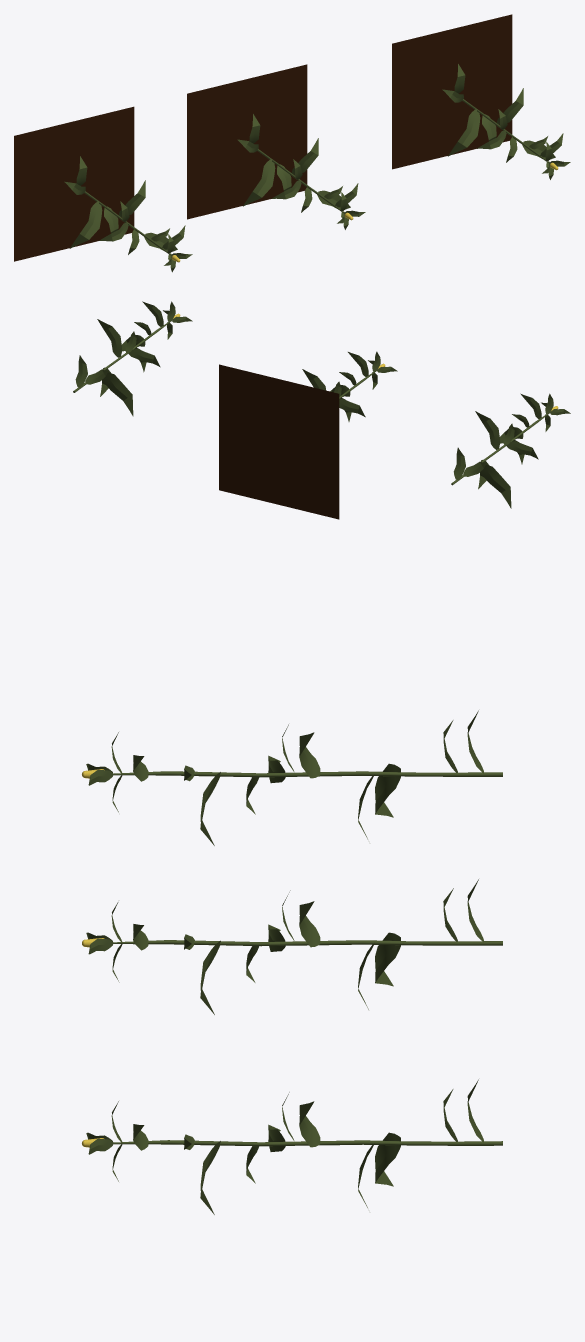
The model's file is Corn.fbx.
3 renders of one model, top to bottom at view 1: azimuth 30°, elevation 25°; view 2: azimuth 150°, elevation 25°; view 3: azimuth 270°, elevation 25°, orthographic. The views are drawn at different scales.
Visible parts, largest first — view 1: Plane, Plane.002, Plane.001, Sphere.002, Sphere, Sphere.001; view 2: Plane, Sphere.001, Sphere.002, Sphere; view 3: Sphere.002, Sphere, Sphere.001.
Part boxes in pixels (x1,y1,x2,y2): Plane: (187, 64, 307, 219); Plane.002: (392, 14, 512, 169); Plane.001: (14, 106, 134, 261); Sphere.002: (442, 64, 570, 179); Sphere: (237, 114, 365, 229); Sphere.001: (64, 156, 192, 272); Plane: (219, 364, 339, 519); Sphere.001: (451, 393, 570, 508); Sphere.002: (73, 301, 192, 416); Sphere: (302, 351, 397, 421); Sphere.002: (82, 1079, 502, 1214); Sphere: (82, 879, 502, 1014); Sphere.001: (82, 710, 502, 845).
Bounding box in the file's own units: 829 × 200 × 304.
